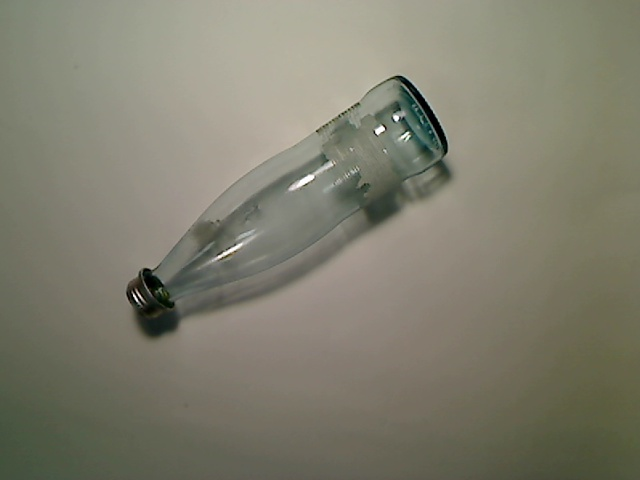bottle: (126, 73, 448, 319)
